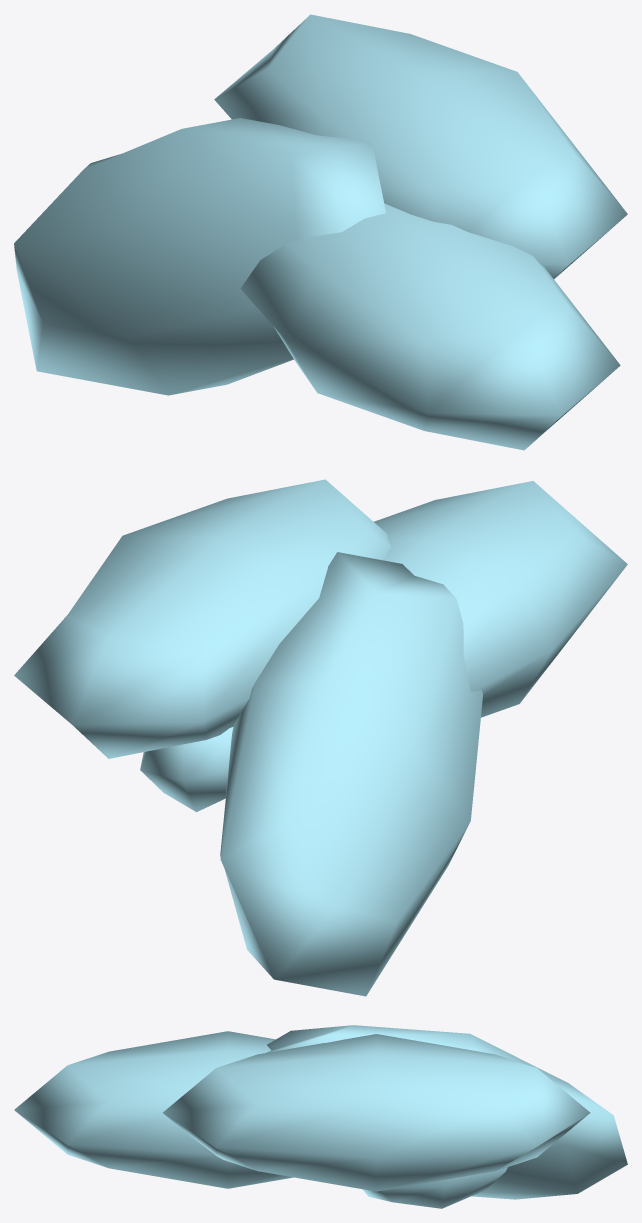
The model's file is Cluod201.FBX.
3 views of the same model, one above another, from view 1: azimuth 30°, elevation 25°; view 2: azimuth 150°, elevation 25°; view 3: azimuth 270°, elevation 25° (orthographic). The views are drawn at different scales.
Visible parts, largest first — view 1: Cloudbits203, Cloudbits202, Cloudbits200; view 2: Cloudbits203, Cloudbits200, Cloudbits202, Cloudbits201; view 3: Cloudbits200, Cloudbits202, Cloudbits203, Cloudbits201.
Part boxes in pixels (bbox=[...]): Cloudbits203: bbox=[14, 118, 385, 395]; Cloudbits202: bbox=[240, 203, 620, 450]; Cloudbits200: bbox=[214, 14, 627, 278]; Cloudbits203: bbox=[220, 552, 482, 996]; Cloudbits200: bbox=[14, 479, 391, 758]; Cloudbits202: bbox=[374, 481, 627, 717]; Cloudbits201: bbox=[140, 727, 233, 812]; Cloudbits200: bbox=[163, 1034, 590, 1191]; Cloudbits202: bbox=[14, 1031, 293, 1188]; Cloudbits203: bbox=[266, 1025, 627, 1199]; Cloudbits201: bbox=[363, 1167, 507, 1208].
Size of the model in its own units: 46.77 by 34.54 by 83.74.
